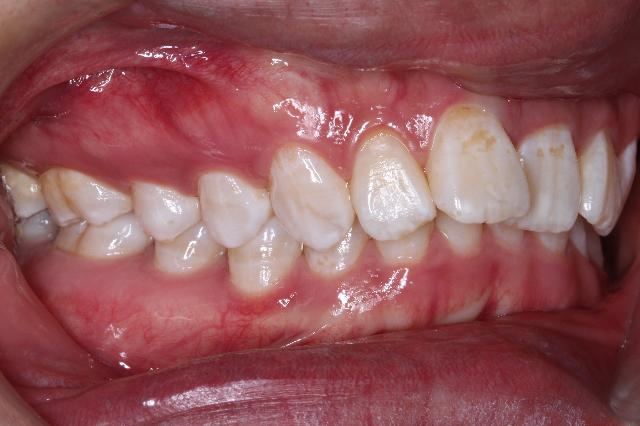canine class II 1/2: (227, 127, 369, 301)
molar class II 1/4: (38, 162, 152, 268)
